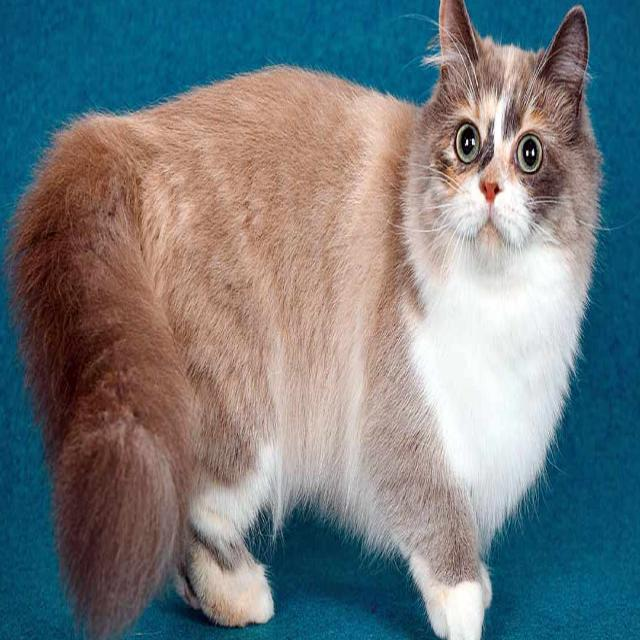Munchkin: (7, 0, 605, 640)
